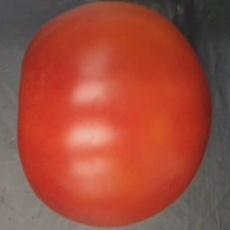unripe: (16, 0, 215, 230)
